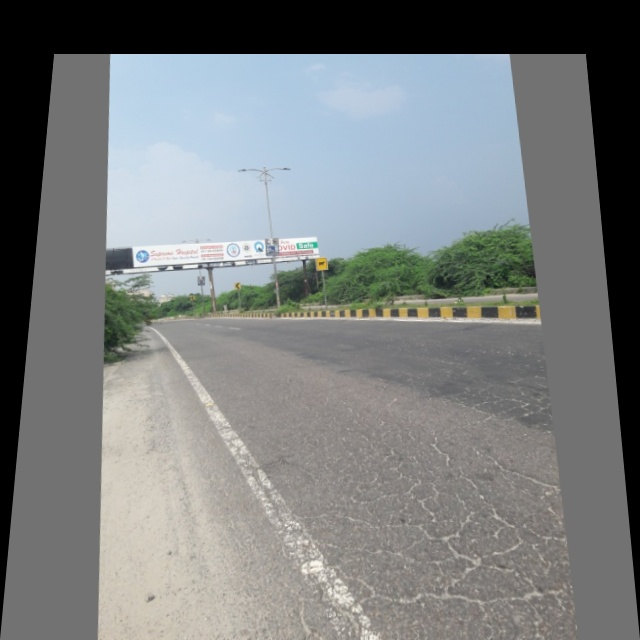Cattle: (312, 254, 331, 271)
